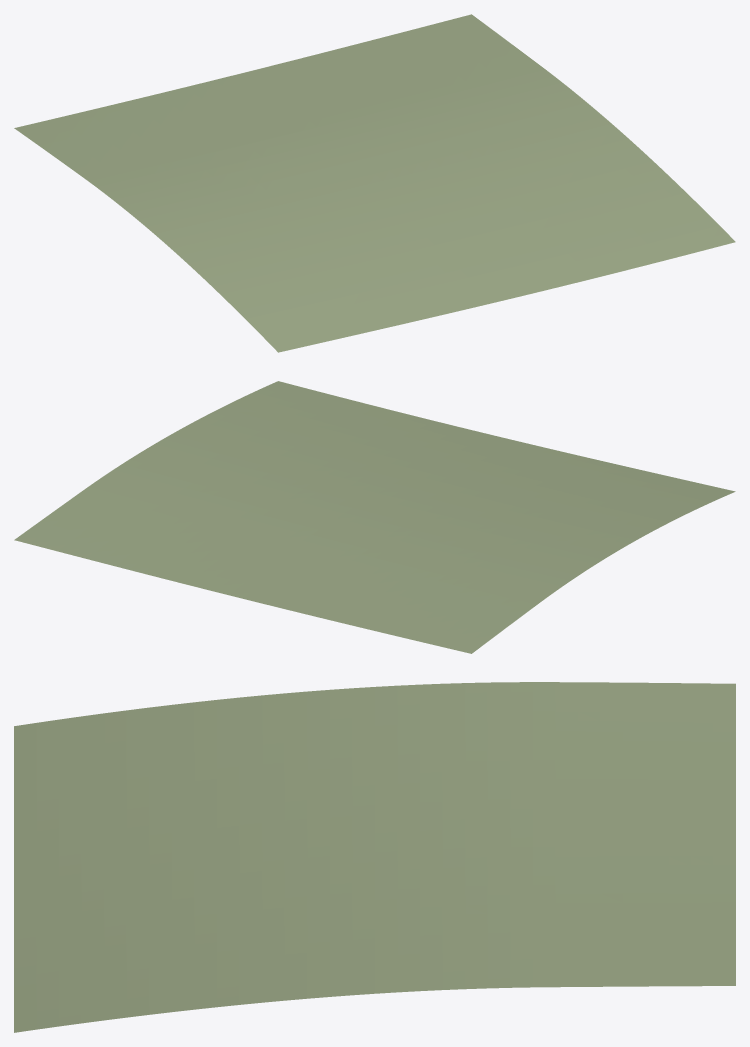
Rendered from expanse-30-17.glb.
3 views of the same model, one above another, from view 1: azimuth 30°, elevation 25°; view 2: azimuth 150°, elevation 25°; view 3: azimuth 270°, elevation 25° (orthographic). The views are drawn at different scales.
Parts seen in each view (by area): view 1: expanse-30-17; view 2: expanse-30-17; view 3: expanse-30-17.
Boxes of the visible parts, box(x1,y1,x2,y2) form: expanse-30-17: box(14, 14, 735, 352); expanse-30-17: box(14, 381, 735, 653); expanse-30-17: box(14, 682, 735, 1032).
Size of the model in its own units: 256 by 19.34 by 256.
